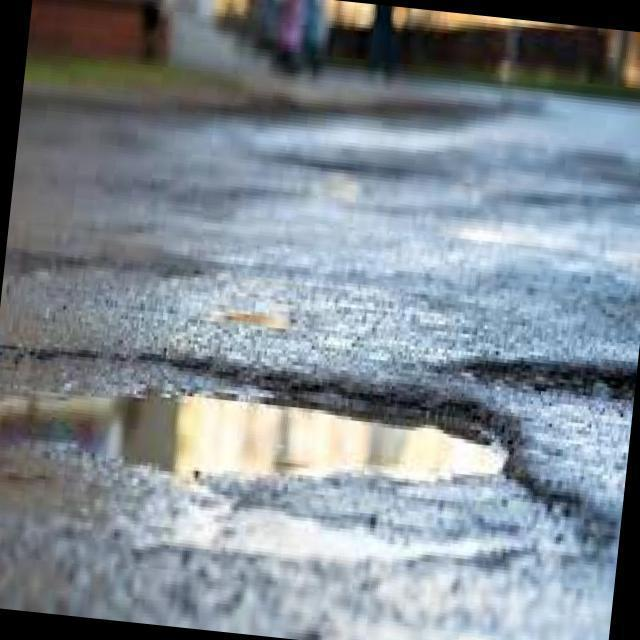pothole: (12, 350, 534, 506)
